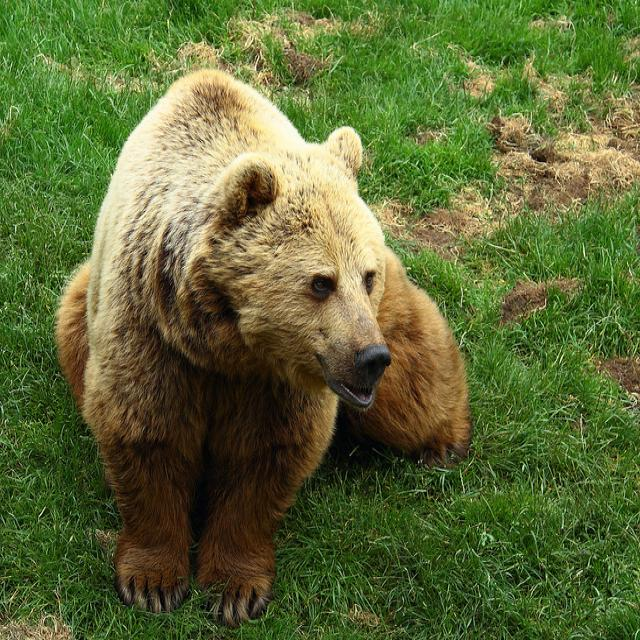Bear: (53, 64, 470, 629)
